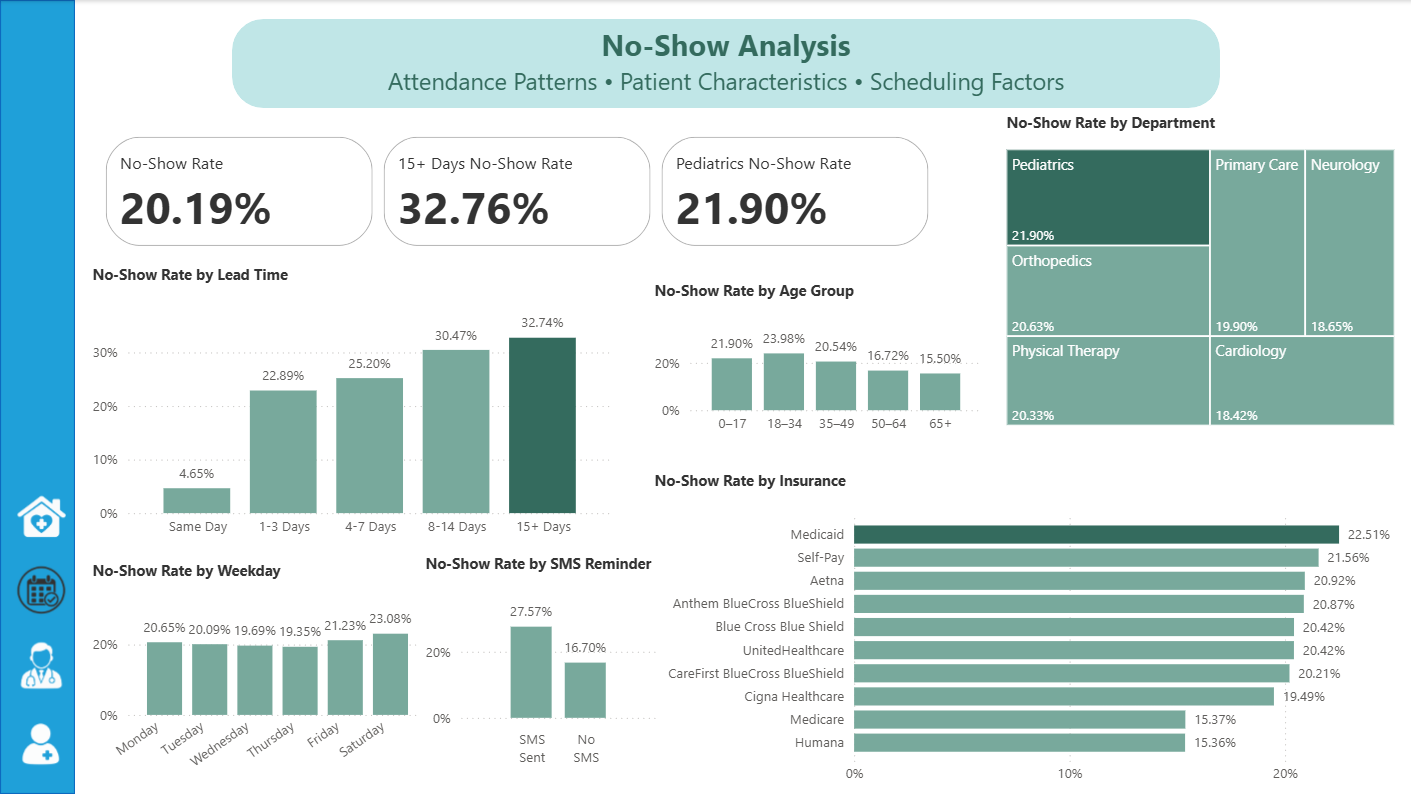

This screenshot's page, from the dashboard's own definition file:
{"tool":"powerbi","page":{"name":"No-Show Analysis","canvas":[1280,720],"ordinal":1},"visuals":[{"type":"shape","box":[0,0,68,720],"z":0},{"type":"clusteredColumnChart","title":"No-Show Rate by Age Group","fields":{"Category":["FactAppointments.AgeGroup"],"Y":["Measure Table.No Show Rate"]},"box":[588.6,255,307.4,147.1],"z":1000},{"type":"barChart","title":"No-Show Rate by Insurance","fields":{"Category":["InsuranceDim.InsuranceName"],"Y":["Measure Table.No Show Rate"]},"box":[588.6,427.3,691.4,292.3],"z":2000},{"type":"treemap","fields":{"Group":["DepartmentDim.Department"],"Values":["Measure Table.No Show Rate"]},"box":[907.7,102.5,361.8,288.4],"z":3000},{"type":"clusteredColumnChart","title":"No-Show Rate by Weekday","fields":{"Category":["CalendarDim.ApptWeekDay"],"Y":["Measure Table.No Show Rate"]},"box":[78.6,509,313.4,199.6],"z":4000},{"type":"clusteredColumnChart","title":"No-Show Rate by Lead Time","fields":{"Category":["FactAppointments.LeadTimeCategory2"],"Y":["Measure Table.No Show Rate"]},"box":[78.6,239.9,481.8,255],"z":5000},{"type":"shape","box":[210.5,17,895.9,80.8],"z":6000},{"type":"textbox","box":[220.5,17,875.9,84.8],"z":7000},{"type":"cardVisual","fields":{"Data":["Measure Table.No Show Rate","Measure Table.No Show Rate 15+ Days","Measure Table.Pediatrics No Show Rate"]},"box":[78.6,106.8,780.1,133],"z":8000},{"type":"columnChart","title":"No-Show Rate by SMS Reminder","fields":{"Category":["FactAppointments.SMS Reminder"],"Y":["Measure Table.No-Show Rate"]},"box":[381,501.9,219.7,199.6],"z":9000},{"type":"actionButton","box":[0,429.8,75.5,76.7],"z":10000},{"type":"actionButton","box":[9.3,506.4,56.9,58.1],"z":11000},{"type":"actionButton","box":[9.3,573.8,56.9,58.1],"z":12000},{"type":"actionButton","box":[2.3,640,73.2,68.5],"z":13000}]}

Visuals, with their boxes on the page's 1280x720 design canvas (x1, y1, x2, y2). These are canvas units, not pixel positions in the 1411x794 screenshot, which may show the page scaled, cropped or inside an application window:
shape: crop(0, 0, 68, 720)
"No-Show Rate by Age Group" clusteredColumnChart: crop(589, 255, 896, 402)
"No-Show Rate by Insurance" barChart: crop(589, 427, 1280, 720)
treemap - DepartmentDim.Department x Measure Table.No Show Rate: crop(908, 102, 1270, 391)
"No-Show Rate by Weekday" clusteredColumnChart: crop(79, 509, 392, 709)
"No-Show Rate by Lead Time" clusteredColumnChart: crop(79, 240, 560, 495)
shape: crop(210, 17, 1106, 98)
textbox: crop(220, 17, 1096, 102)
cardVisual - Measure Table.No Show Rate x Measure Table.No Show Rate 15+ Days: crop(79, 107, 859, 240)
"No-Show Rate by SMS Reminder" columnChart: crop(381, 502, 601, 702)
actionButton: crop(0, 430, 76, 506)
actionButton: crop(9, 506, 66, 564)
actionButton: crop(9, 574, 66, 632)
actionButton: crop(2, 640, 76, 708)
